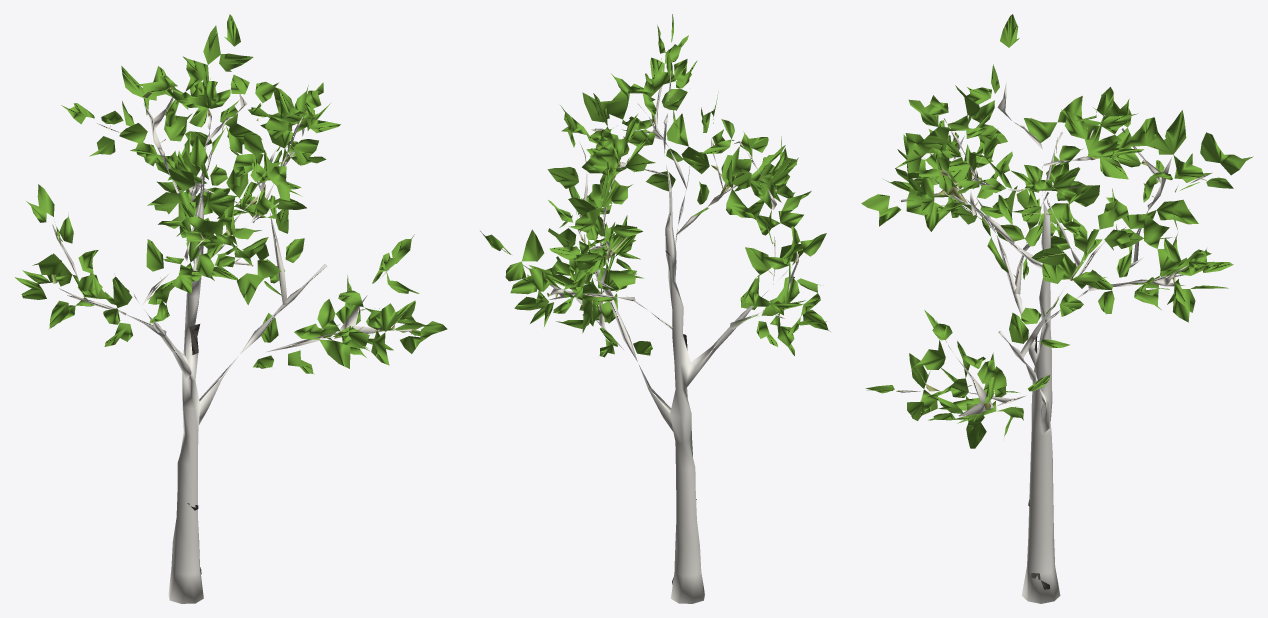
The picture shows the model from 3 angles, left to right: view 1: azimuth 30°, elevation 25°; view 2: azimuth 150°, elevation 25°; view 3: azimuth 270°, elevation 25°; orthographic projection. The views are drawn at different scales.
Visible parts, largest first — view 1: body; view 2: body; view 3: body.
Boxes of the visible parts, x1,y1,x2,y2 form: body: [15, 14, 447, 603]; body: [480, 14, 830, 603]; body: [861, 14, 1253, 603].
Size of the model in its own units: 2.33 by 3.7 by 2.21.
1 material, 1 textured.
